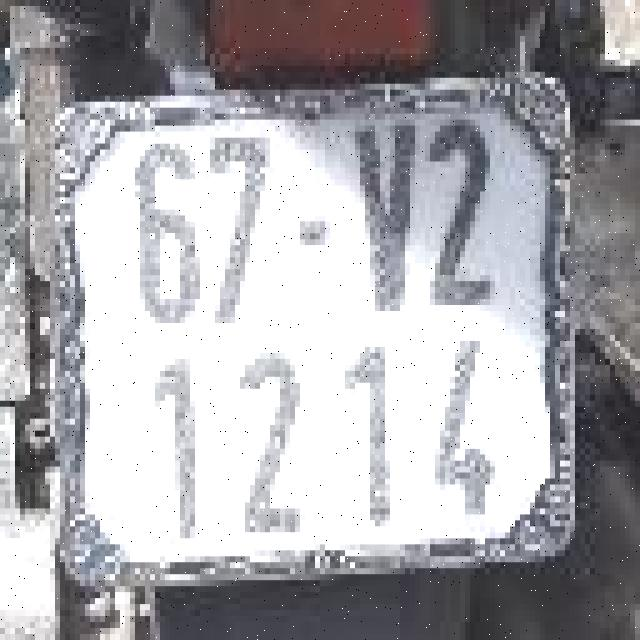1: (145, 338, 215, 553), (332, 329, 402, 532)
2: (425, 108, 520, 323), (218, 338, 318, 535)
4: (430, 332, 510, 523)
6: (115, 123, 205, 326), (205, 120, 265, 323)
V: (348, 111, 422, 314)
